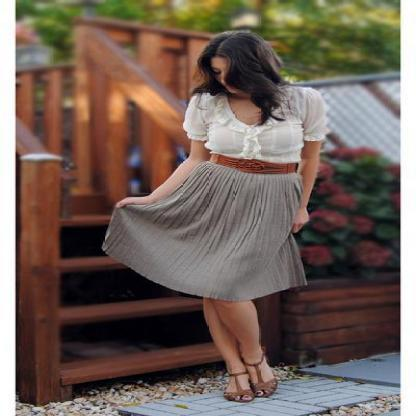shirt: (183, 76, 329, 165)
shoe: (222, 358, 283, 402)
skirt: (102, 163, 310, 302)
